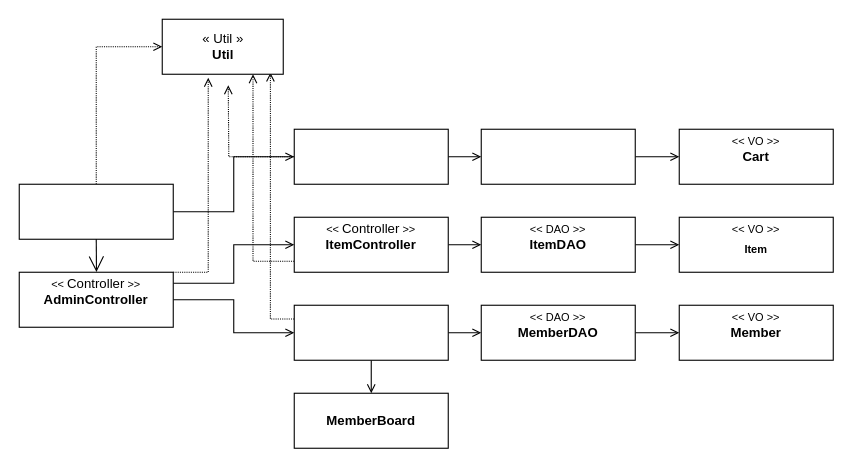
Some shapes in this 853 by 468 pixel diagram are drawn without their labels. The centre of each missing label's shape, as x and y in pixels:
<< Controller >> CartController: the point at 370,156
<< Controller >> MallController: the point at 95,211
<< Controller >> MemberController: the point at 370,332
<< DAO >> CartDAO: the point at 557,156
